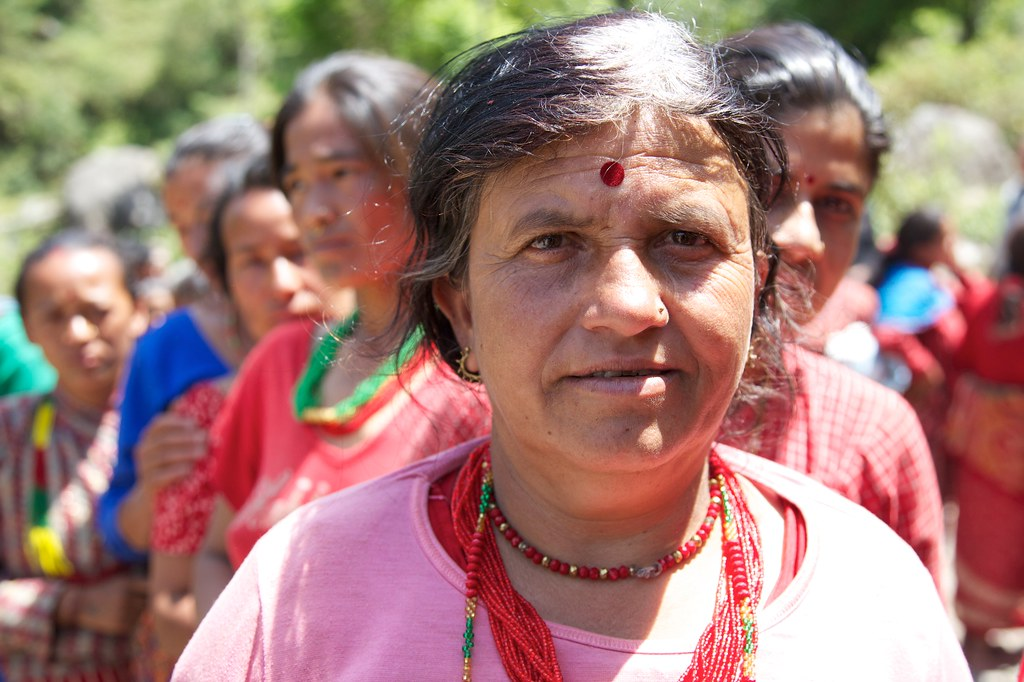human: (163, 11, 1000, 682)
